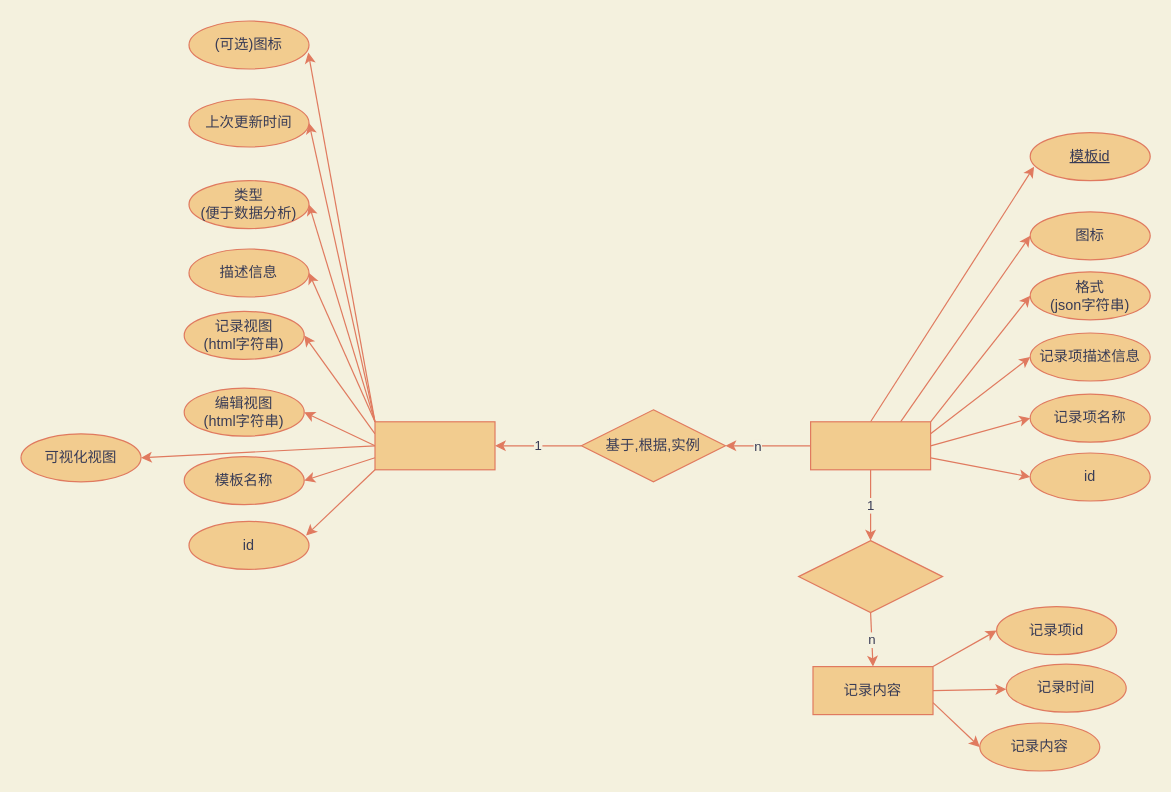
The diagram is 1171 pixels wide and 792 high, and some of its shapes have lost their labels. Here are the shapes that lost their labels. From the top down, the centre of each, then its label:
At (x=434, y=445): "记录项模板".
At (x=870, y=445): "具体的记录项".
At (x=870, y=576): "具体内容".
